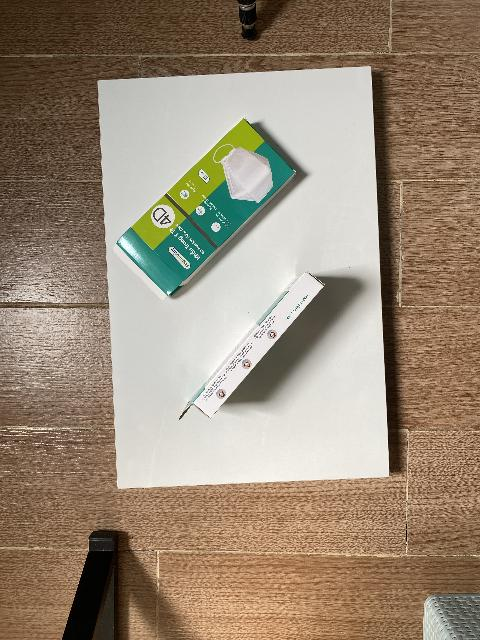4D_medical_face-mask: (113, 118, 297, 300), (179, 271, 326, 420)
